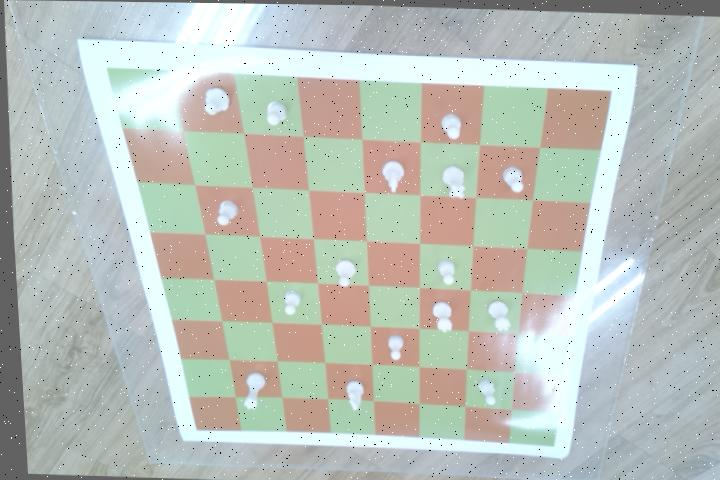chessboard-detect: (104, 68, 611, 447)
